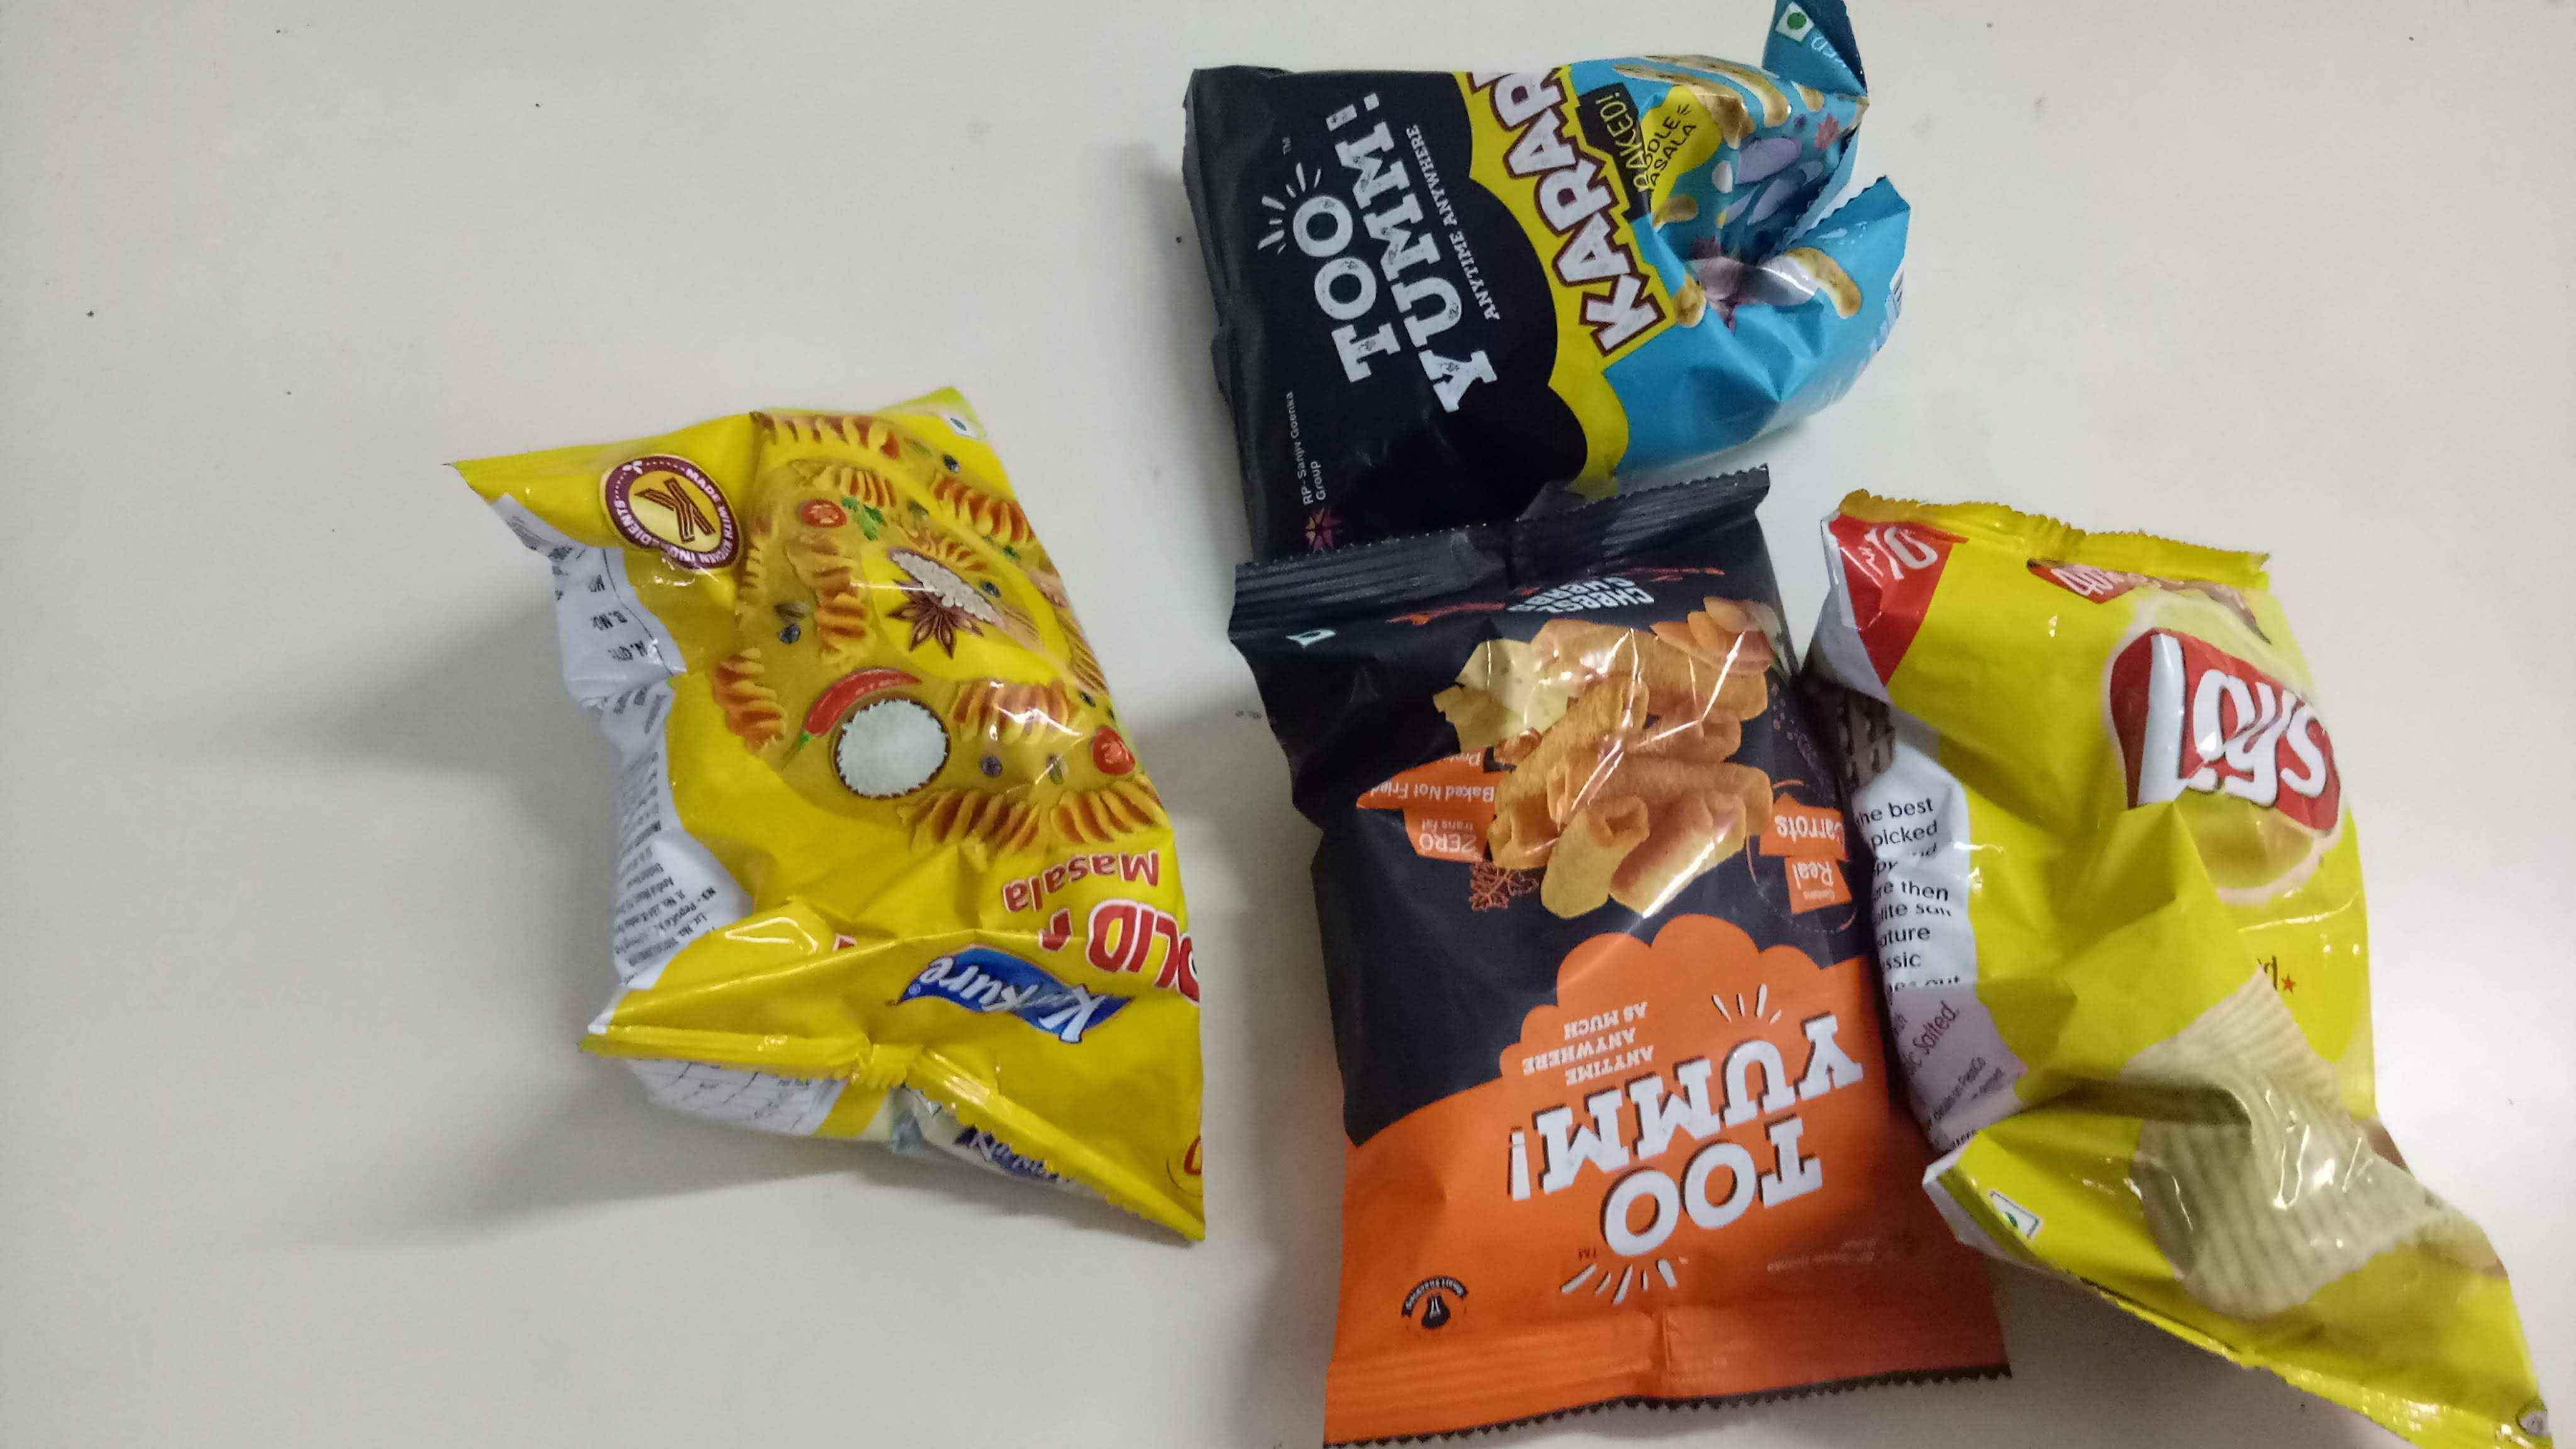Lays: (2082, 600, 2346, 890)
kurkure: (902, 920, 1145, 1070)
tooyumm: (1258, 92, 1530, 421), (1470, 1037, 1898, 1230)
